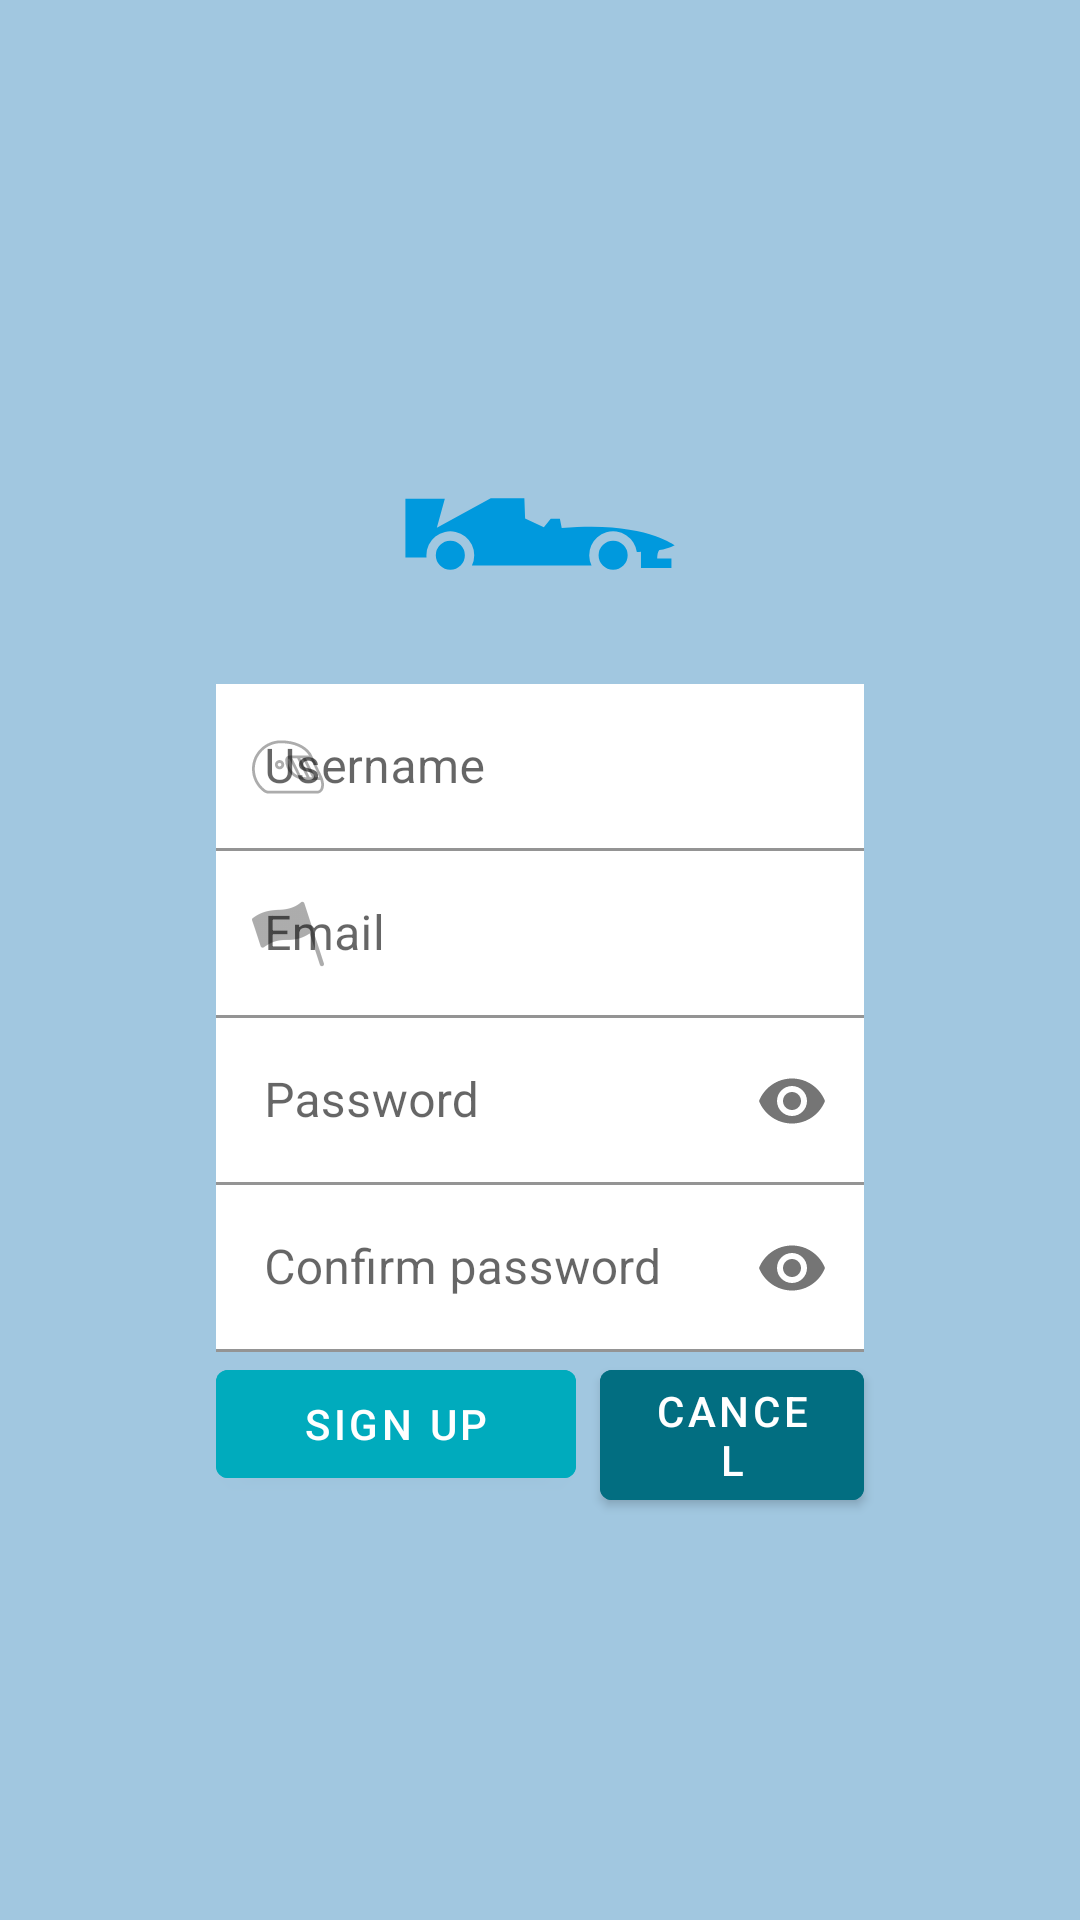

Screen size 1080 x 1920. Icon name, then its box in pixels as [left=x1, top=y1, right=x2, bottom=y2]:
car: [left=405, top=498, right=675, bottom=570]
